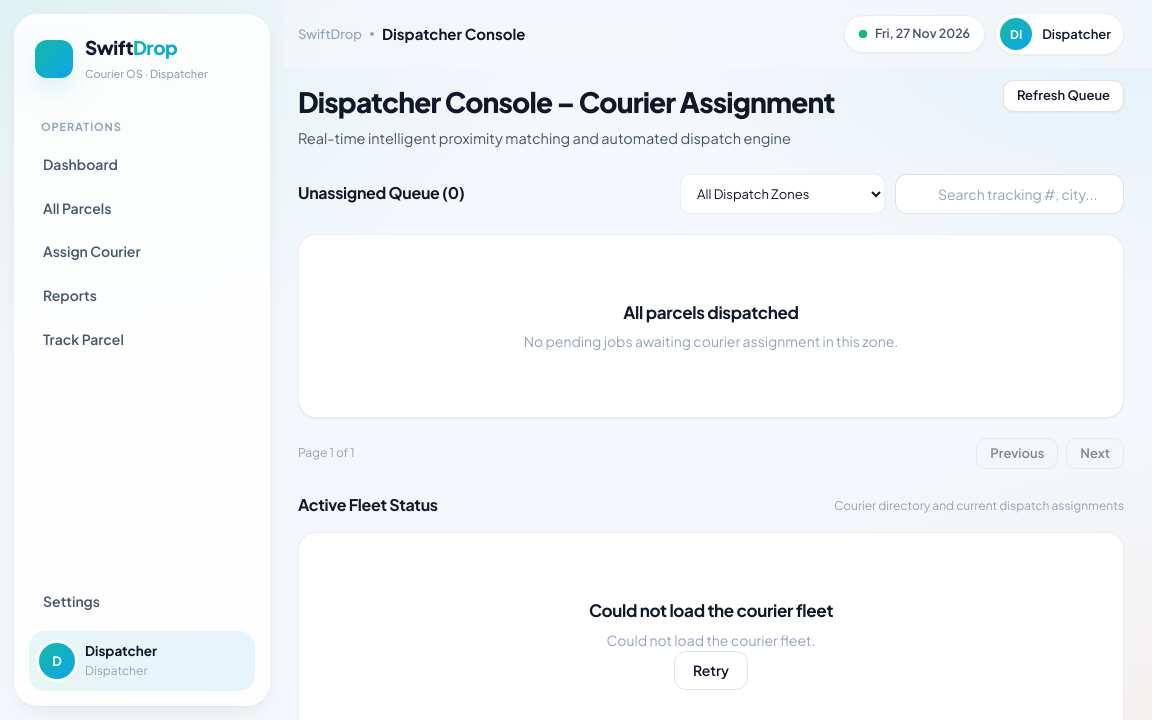
Test case: AssignCourier fleet › shows an error and retries the courier directory
Expected: the text "Could not load the courier fleet." is shown, [606,631,815,649]
Click the button "Retry".
click(711, 671)  # box [674,651,748,690]
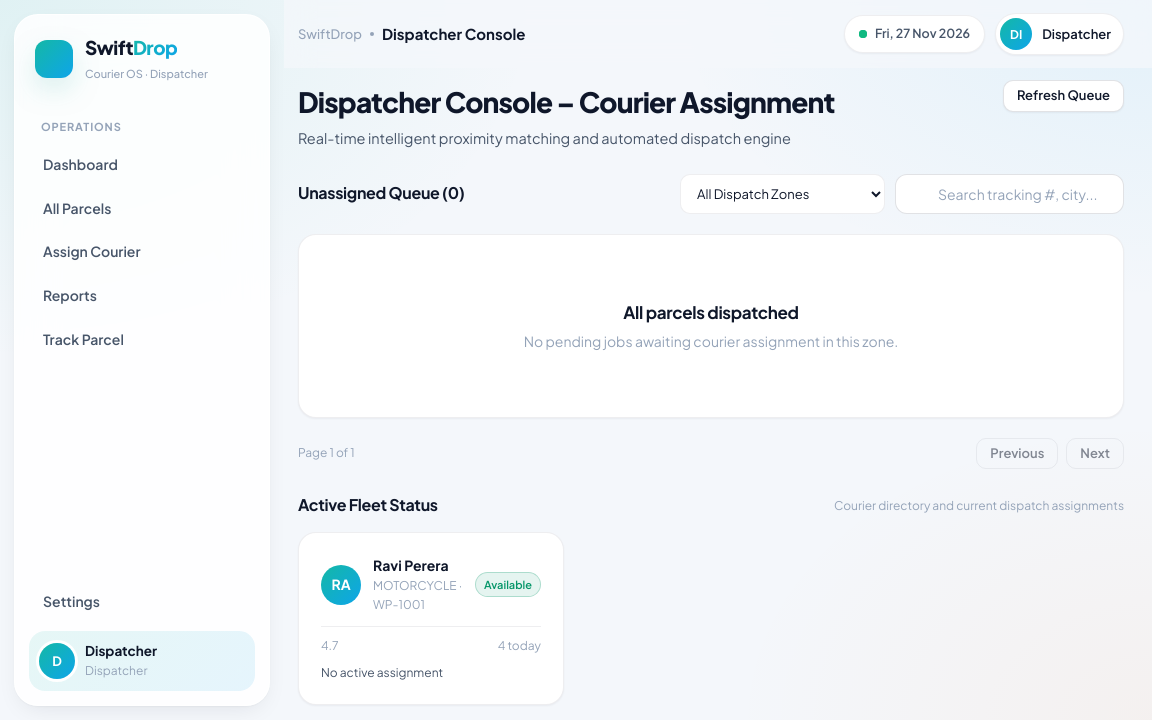
Result: the text "Ravi Perera" is shown at [373,556,449,574]
